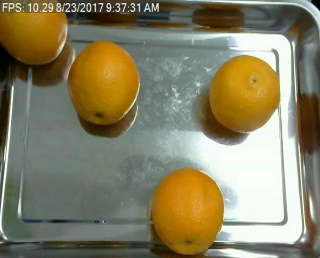Orange: (150, 165, 225, 255), (67, 38, 140, 124), (208, 53, 282, 134)
